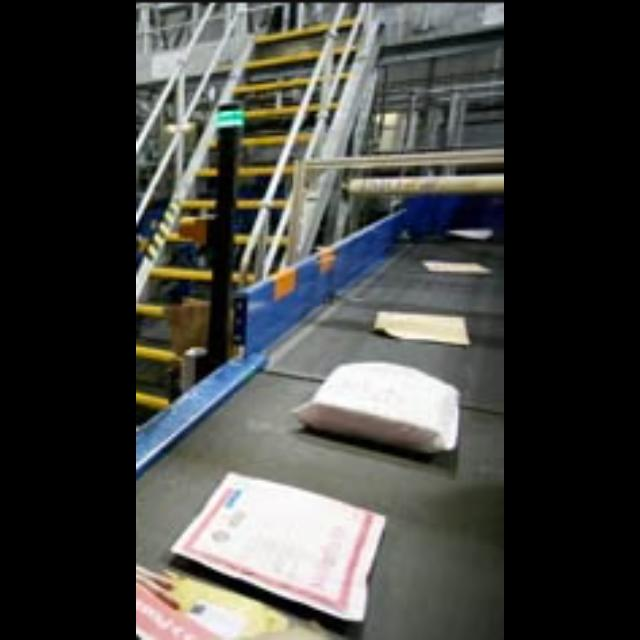mailer: (174, 475, 396, 617), (307, 362, 468, 456), (376, 308, 474, 346), (426, 258, 489, 276), (448, 225, 492, 242)
